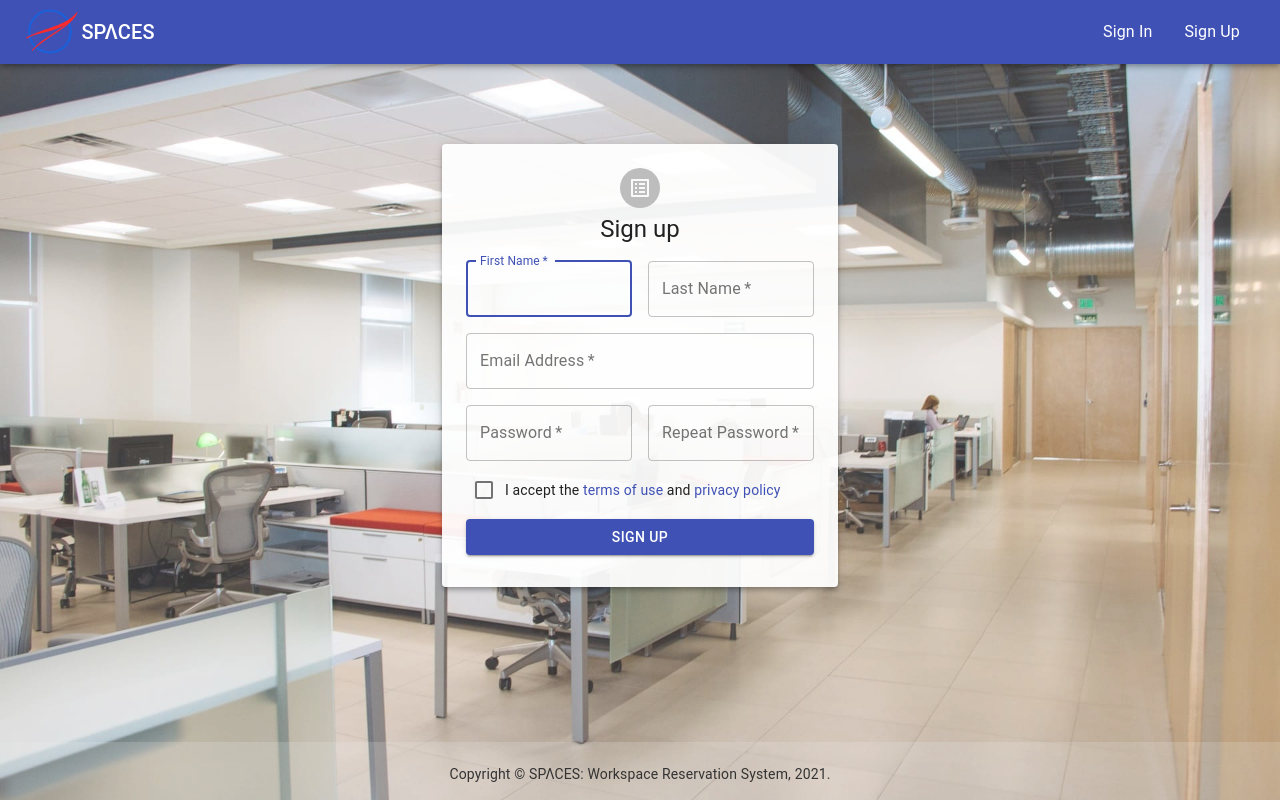
Scenario: Sign up form › shows missing value errors
Click the button "Sign Up" at [640, 537], box [466, 519, 814, 555]
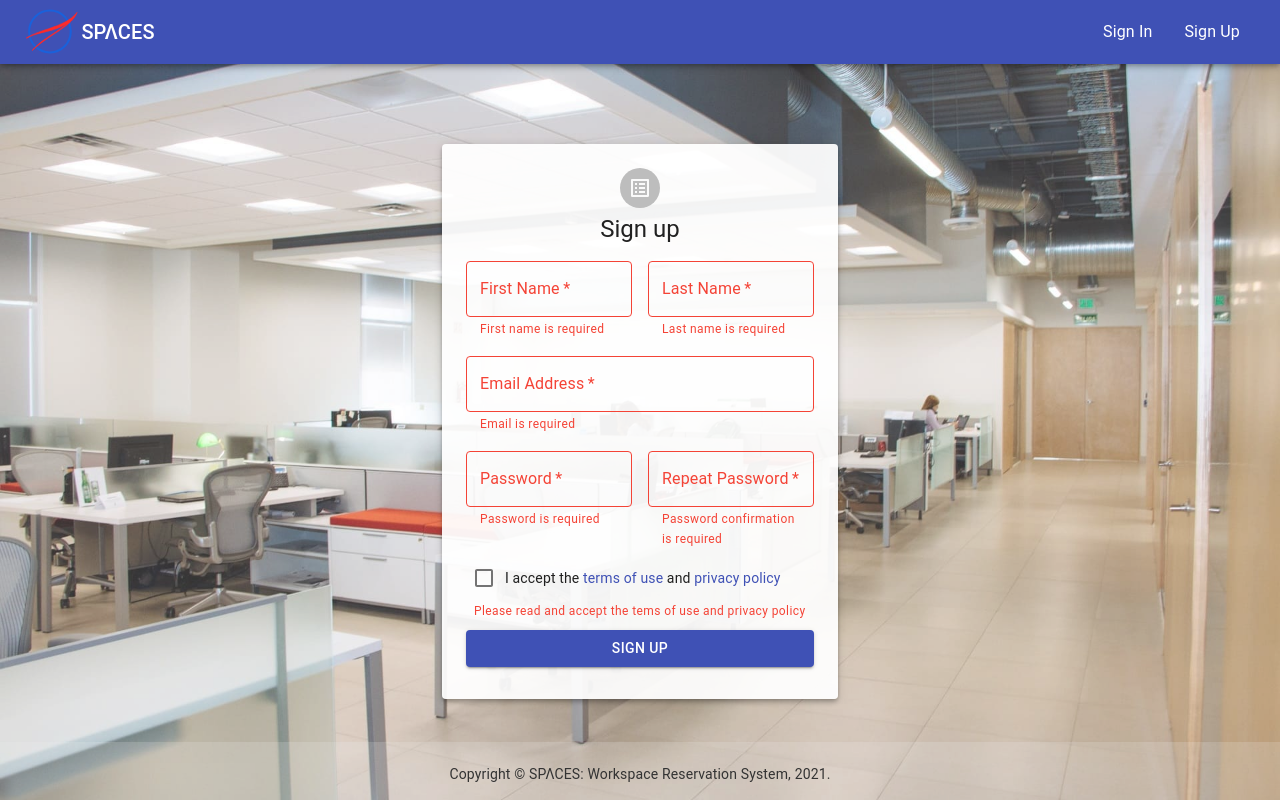
Expected: the text "First name is required" is shown, [480, 320, 618, 340]
Expected: the text "Last name is required" is shown, [662, 320, 800, 340]
Expected: the text "Email is required" is shown, [480, 417, 575, 431]
